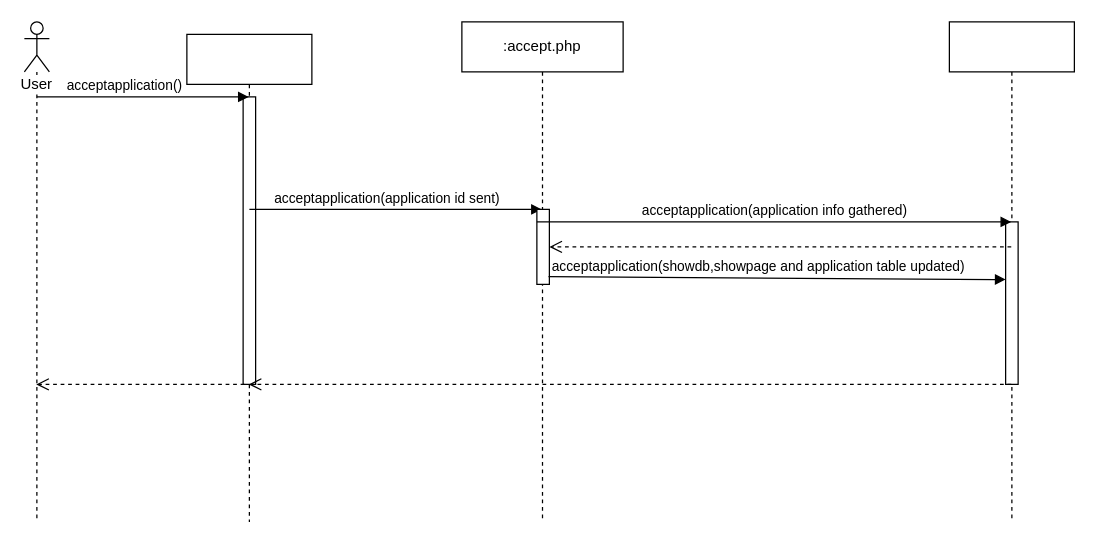
This 1096x544 diagram has some shape labels left out. The shapes that lost their labels are listed below. From the top down, each one's box as (x1, y1, x2, y2) in pixels, then its label:
(186, 33, 312, 522): :inbox.php
(948, 21, 1074, 522): :database
